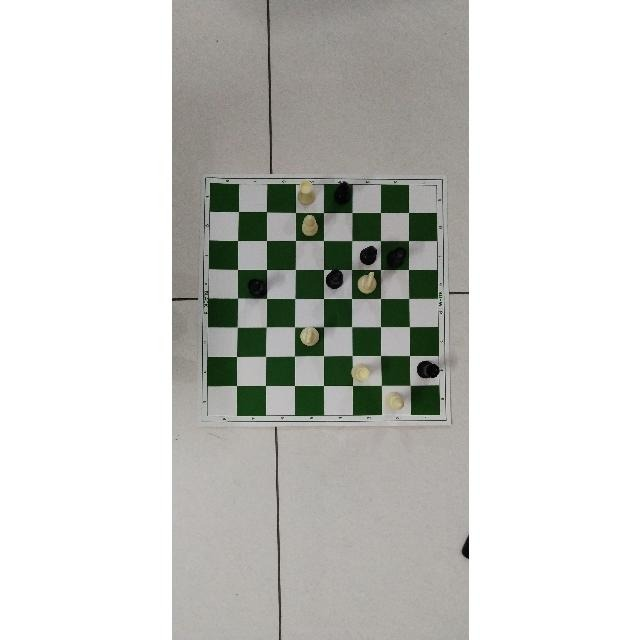black-bishop: (332, 181, 350, 203), (358, 245, 377, 265)
black-rook: (385, 244, 406, 267), (415, 359, 438, 378), (324, 268, 342, 288), (247, 279, 267, 297)
white-bishop: (300, 213, 318, 236), (384, 392, 404, 410)
white-knight: (356, 272, 378, 294), (298, 326, 319, 346)
white-rook: (296, 181, 316, 205), (349, 362, 368, 381)
